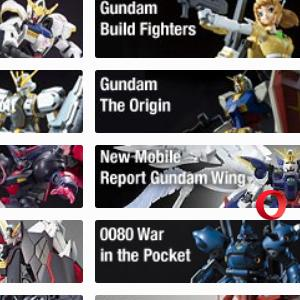opera: (256, 190, 286, 220)
